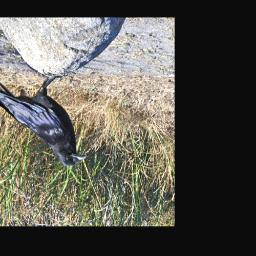Crow: (0, 68, 88, 169)
